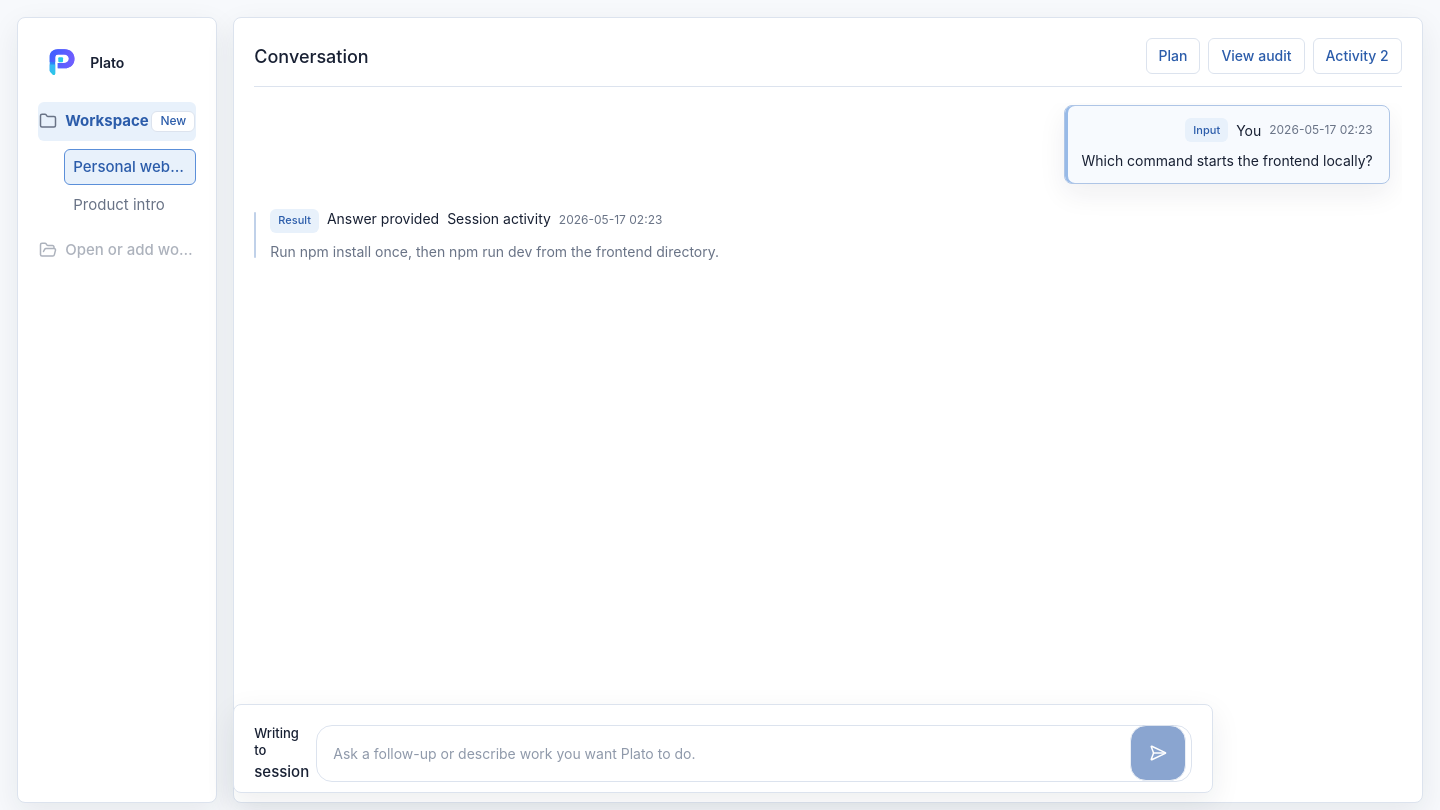
Scenario: MainPageWorkbench layout › exposes archived plan and Audit entries from Conversation-only state
Click the button with aria-label "Open archived plan from Conversation" at (1173, 56), box [1146, 38, 1200, 74]
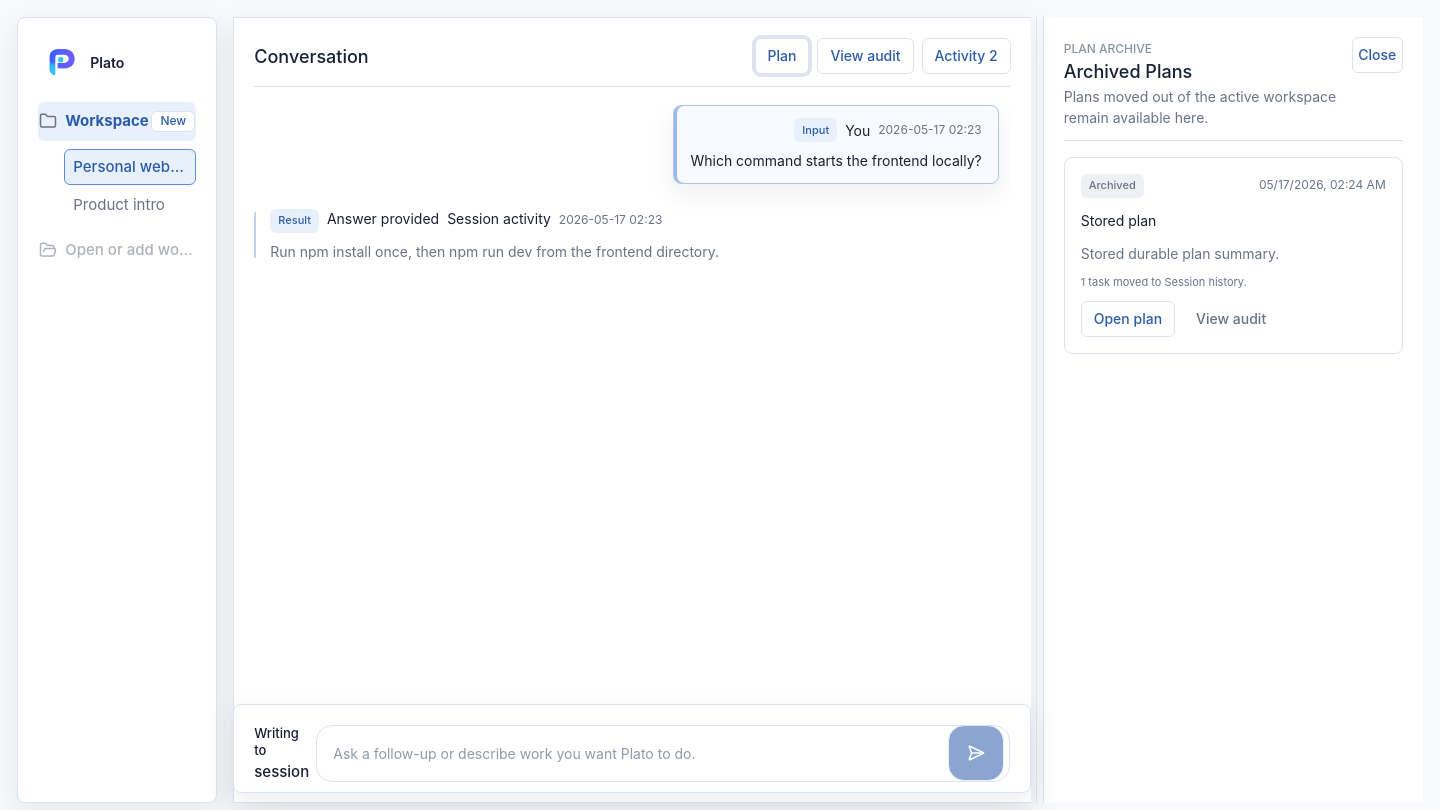
Check: the dialog labelled "Archived Plans" is shown, box [1043, 17, 1423, 803]
Check: the number of buttons "Open plan" is 1, box [1081, 301, 1175, 337]
Click the button "Close" at (1377, 55), box [1352, 37, 1403, 73]
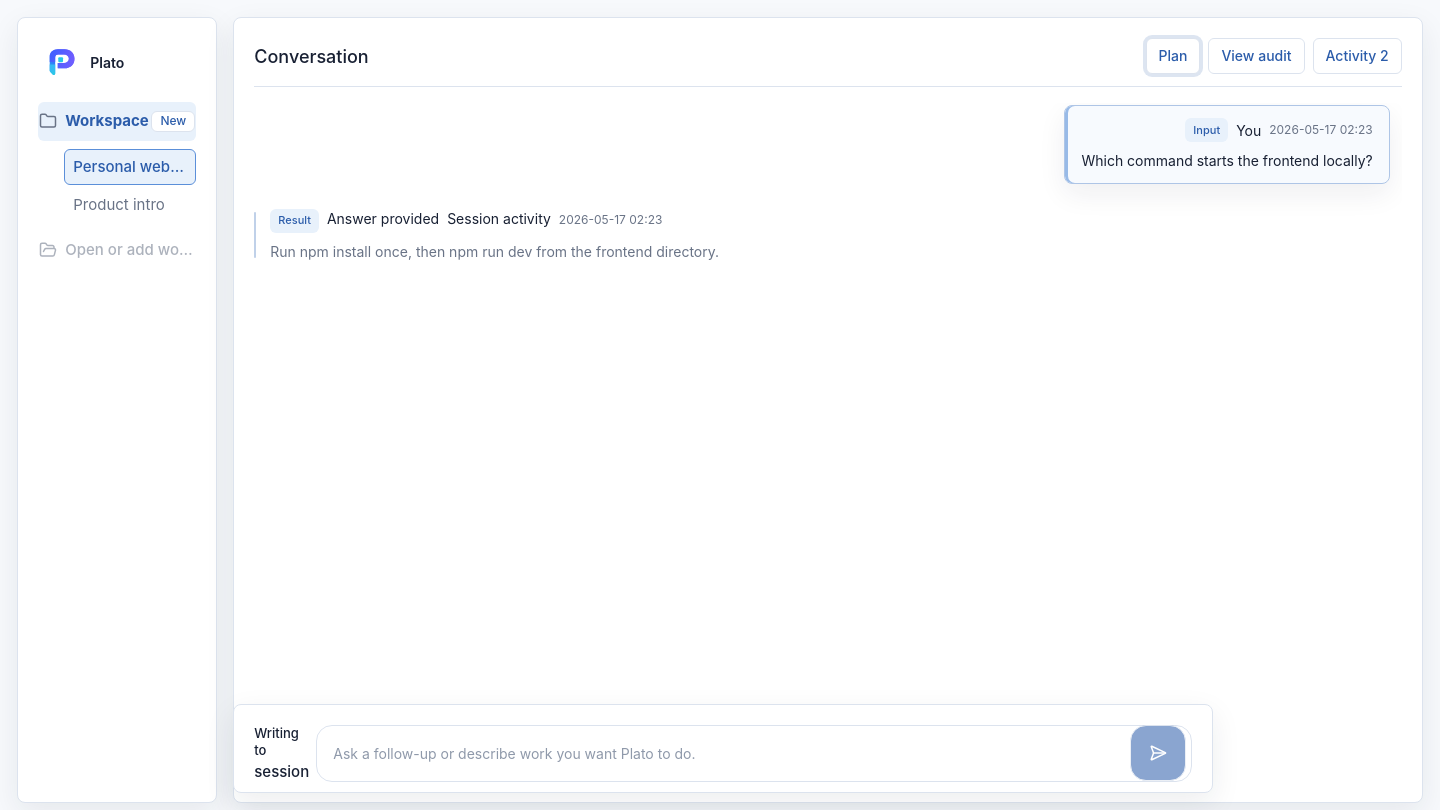
Click the button with aria-label "Open archived plan from Conversation" at (1173, 56), box [1146, 38, 1200, 74]
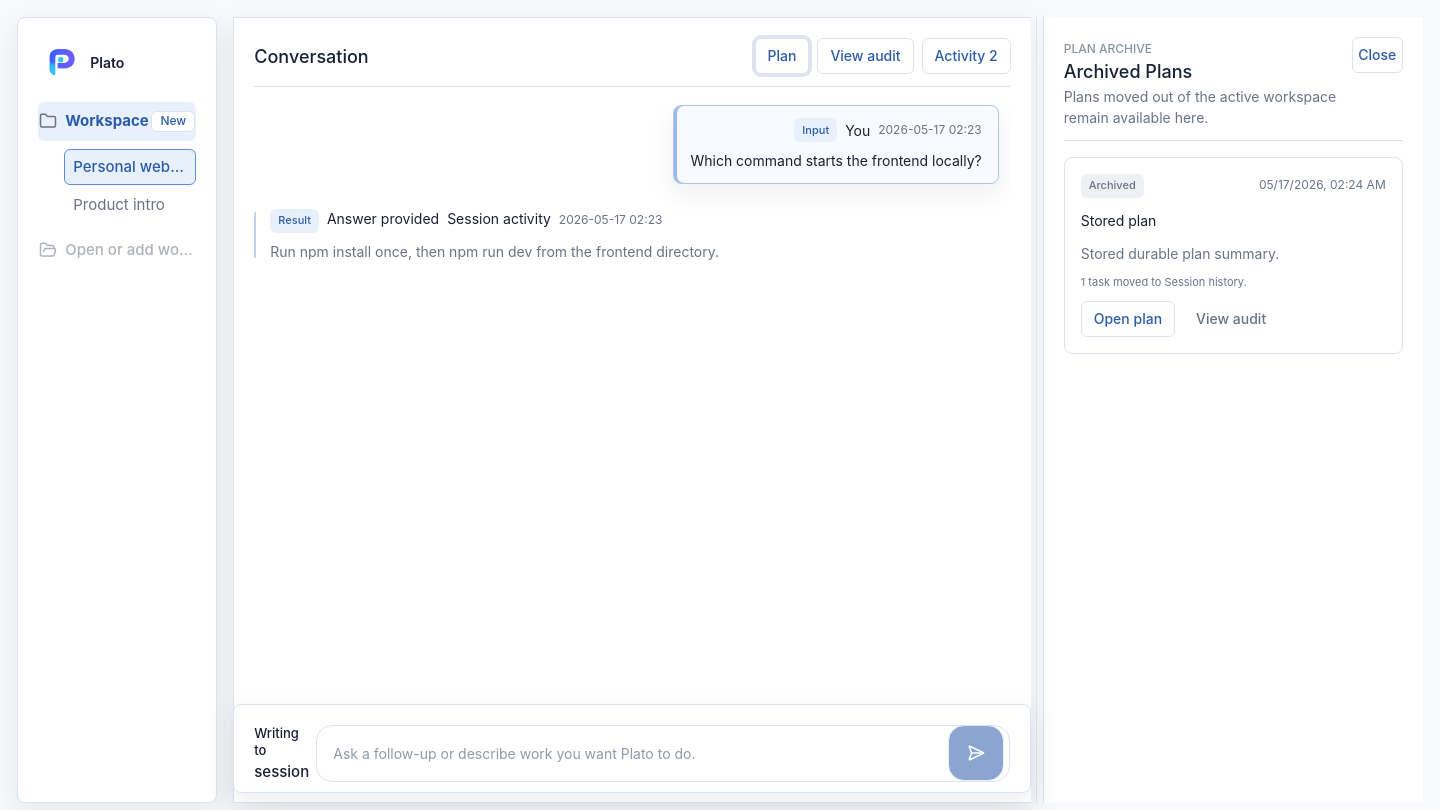
Click the button "Open plan" at (1128, 319), box [1081, 301, 1175, 337]
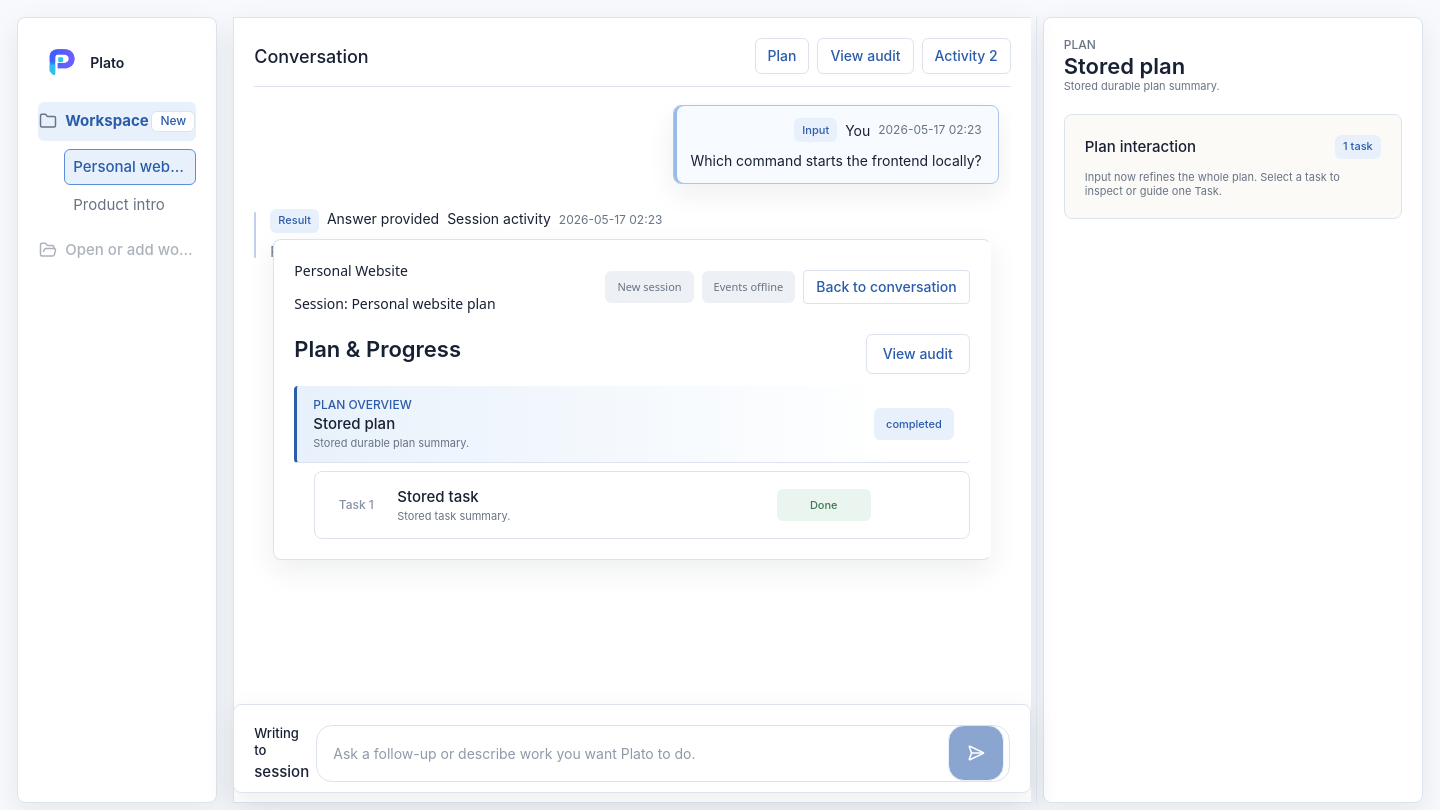
Check: the text "Stored plan" is shown, box [313, 414, 395, 433]
Check: the text "Stored durable plan summary." below "Plan & Progress" is shown, box [313, 436, 469, 450]
Check: the text "Stored task" is shown, box [397, 487, 479, 506]
Click the button "Stored task" at (356, 505), box [327, 484, 871, 526]
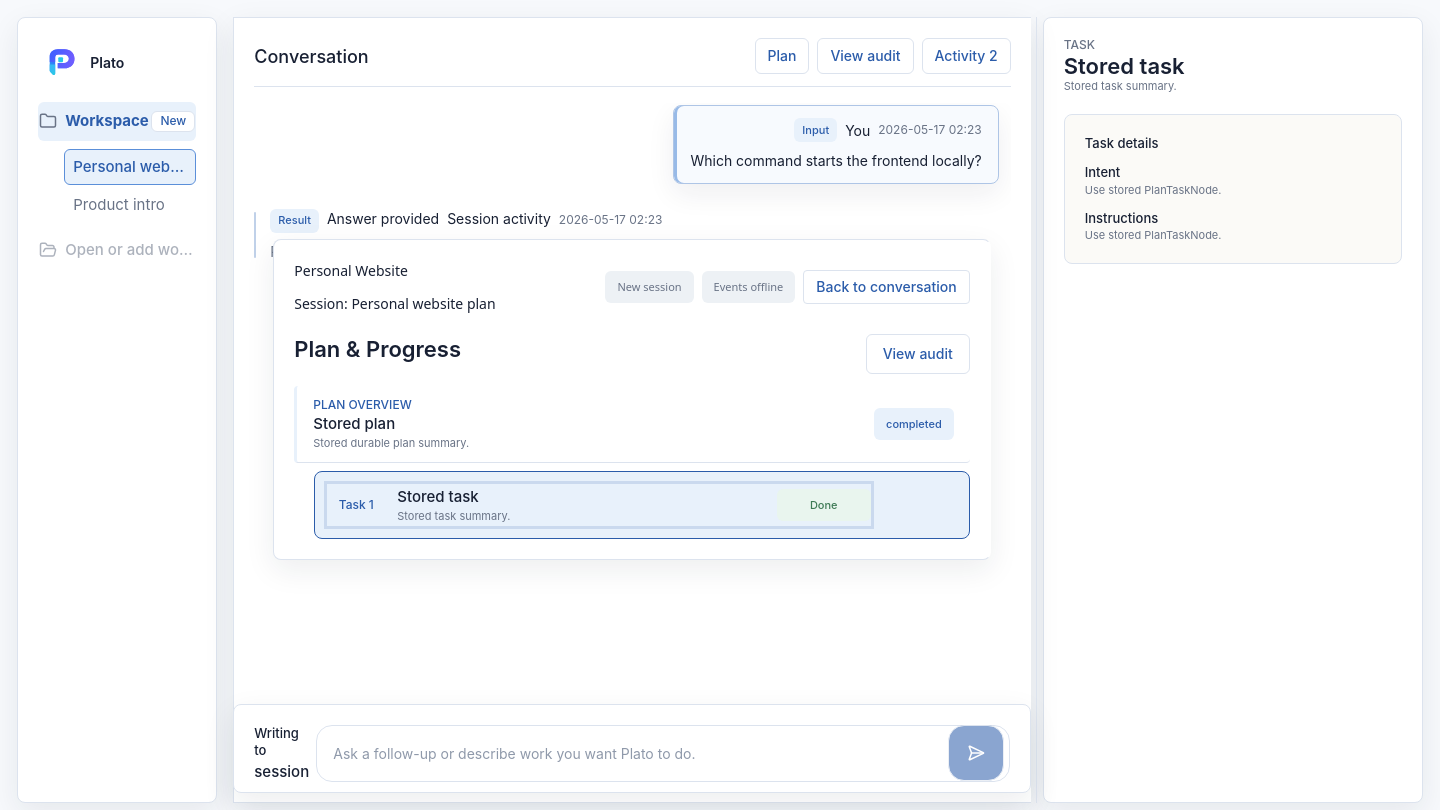
Check: the heading "Stored task" is shown, box [1064, 53, 1185, 79]
Check: the text "Use stored PlanTaskNode." is shown 2 times, box [1085, 183, 1221, 197]; [1085, 228, 1221, 242]
